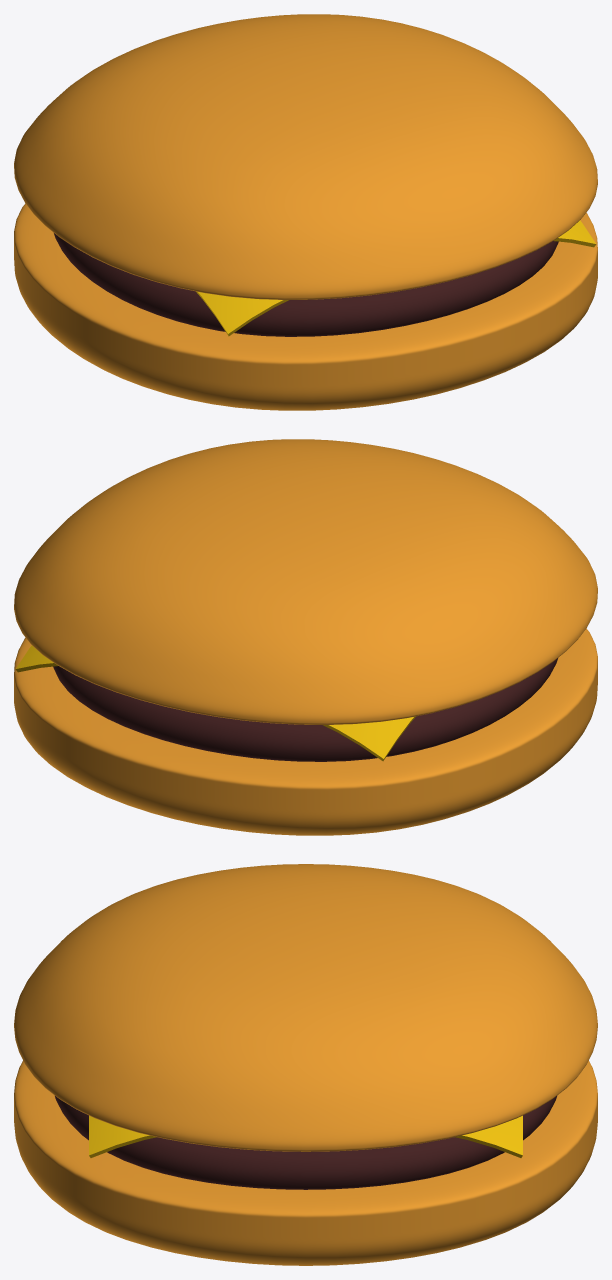
The model's file is bun.glb.
3 renders of one model, top to bottom at view 1: azimuth 30°, elevation 25°; view 2: azimuth 150°, elevation 25°; view 3: azimuth 270°, elevation 25°, orthographic. The views are drawn at different scales.
Parts seen in each view (by area): view 1: Cube.002, Cube, Cube.001, Plane; view 2: Cube.002, Cube, Cube.001, Plane; view 3: Cube.002, Cube, Cube.001, Plane.
Boxes of the visible parts, box(x1,y1,x2,y2) form: Cube.002: box(14, 14, 597, 299); Cube: box(14, 203, 597, 410); Cube.001: box(54, 233, 558, 336); Plane: box(196, 220, 596, 336); Cube.002: box(14, 439, 597, 724); Cube: box(14, 628, 597, 835); Cube.001: box(53, 658, 557, 761); Plane: box(15, 645, 415, 761); Cube.002: box(14, 864, 597, 1151); Cube: box(14, 1060, 597, 1265); Cube.001: box(55, 1096, 556, 1189); Plane: box(89, 1115, 522, 1157).
Bounding box in the file's own units: 1.83 × 0.8897 × 1.83.
